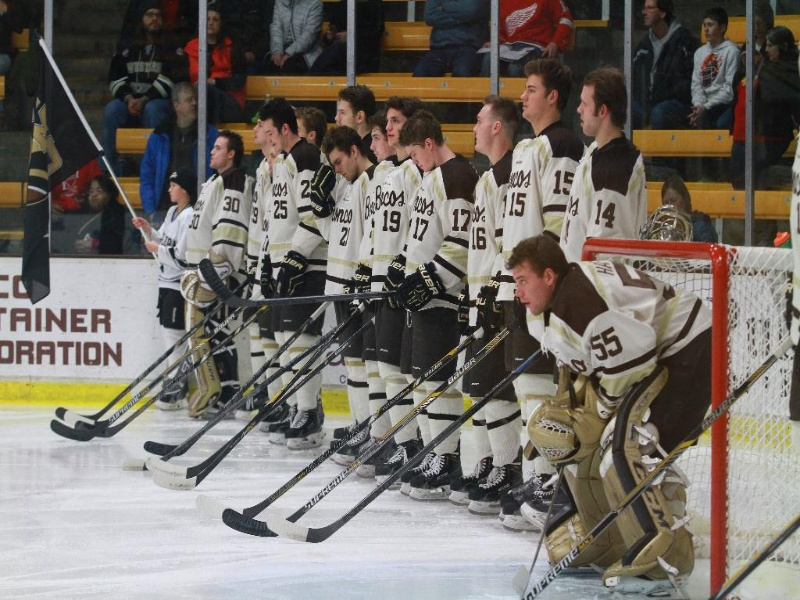person: (512, 235, 714, 584), (398, 104, 463, 502), (470, 86, 519, 496), (254, 106, 327, 312), (580, 64, 649, 231), (328, 125, 373, 376), (516, 60, 577, 224), (191, 127, 248, 294), (757, 25, 800, 172), (154, 84, 215, 179), (694, 14, 738, 126), (161, 164, 188, 325), (74, 175, 125, 253), (134, 8, 179, 92), (333, 84, 375, 134), (371, 122, 395, 163)
